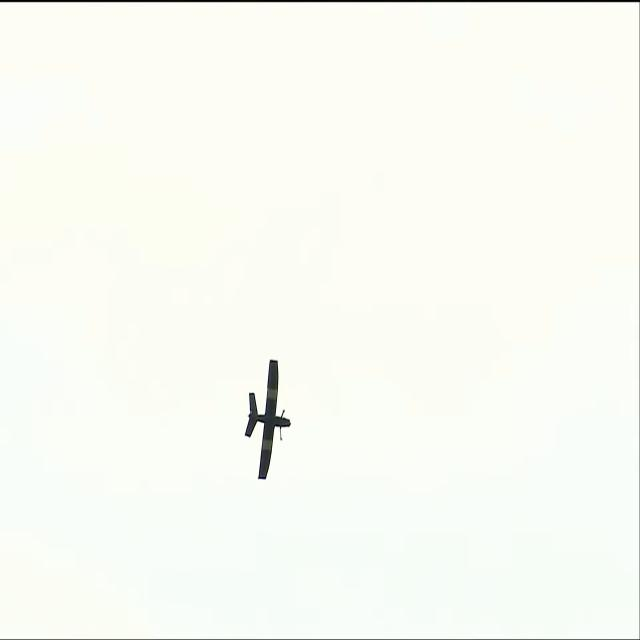iha: (238, 392, 285, 449)
